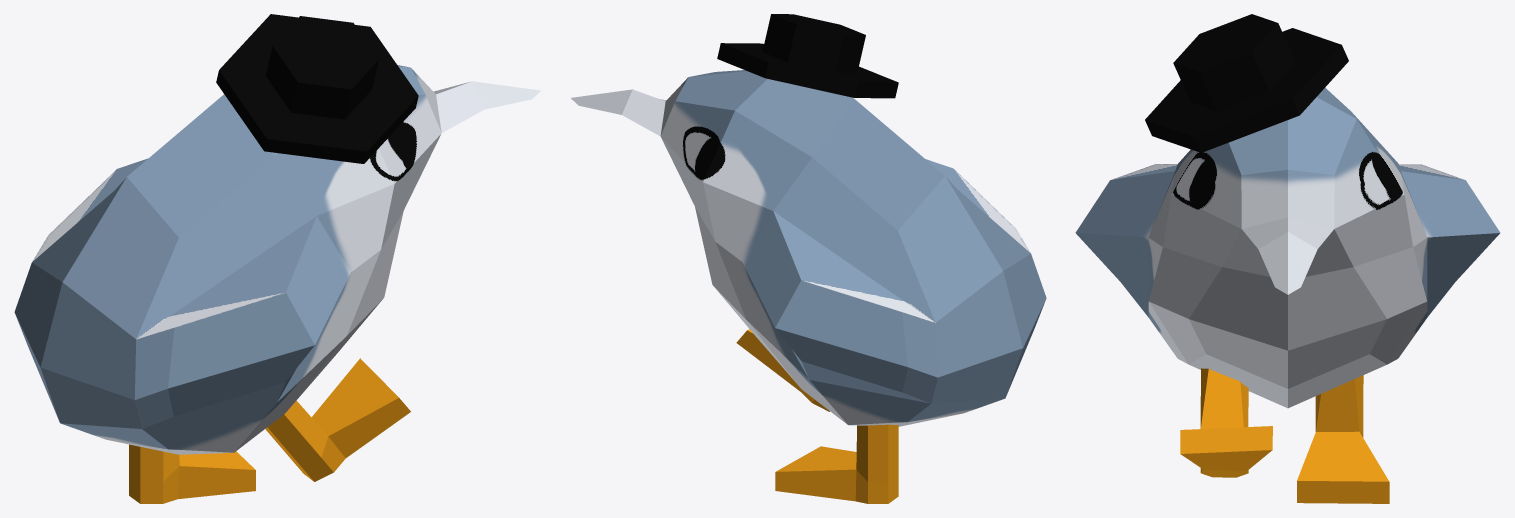
File: Char_Bird3.fbx
3 renders of one model, left to right at view 1: azimuth 30°, elevation 25°; view 2: azimuth 150°, elevation 25°; view 3: azimuth 270°, elevation 25°, orthographic. The views are drawn at different scales.
Visible parts, largest first — view 1: 柱体; view 2: 柱体; view 3: 柱体.
Part boxes in pixels (x1,y1,x2,y2): 柱体: (14, 14, 540, 503); 柱体: (571, 14, 1046, 503); 柱体: (1075, 14, 1500, 503).
Bounding box in the file's own units: 101 × 91.04 × 70.39.
Materials: 3 (1 with a texture image).
